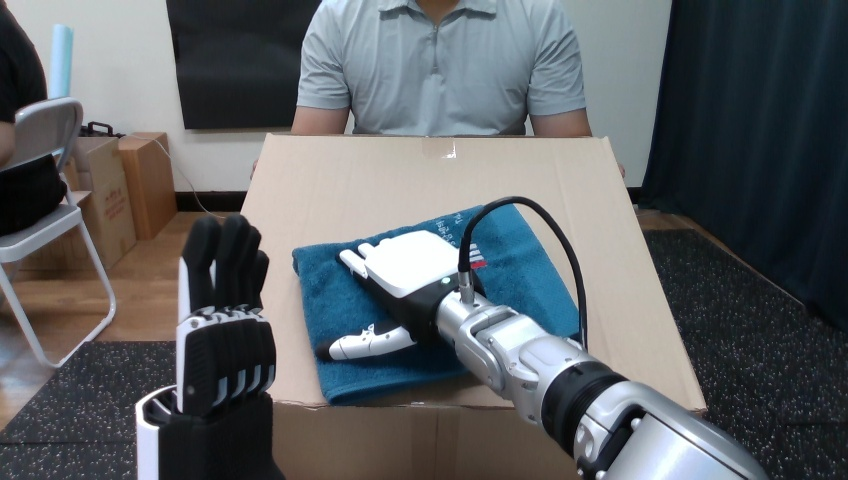left robot hand: (317, 196, 765, 479), (136, 214, 282, 478), (470, 203, 580, 343)
